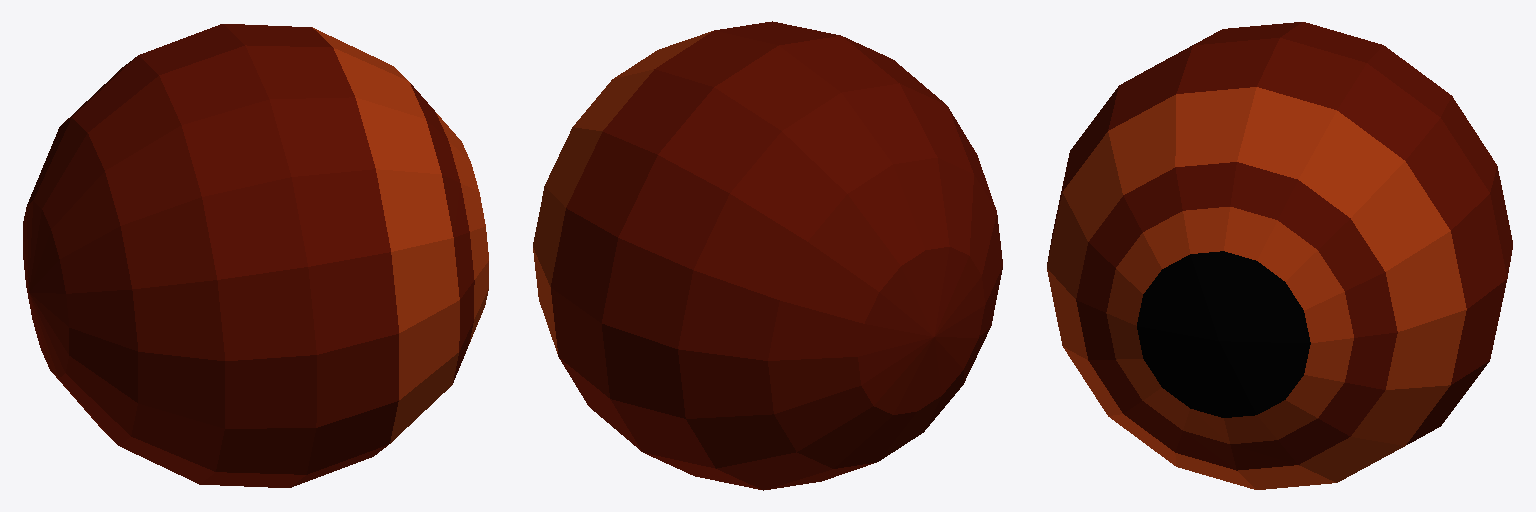
The model's file is carp_fish_eye.obj.
3 views of the same model, side by side, from view 1: azimuth 30°, elevation 25°; view 2: azimuth 150°, elevation 25°; view 3: azimuth 270°, elevation 25° (orthographic).
Visible parts, largest first — view 1: eye; view 2: eye; view 3: eye.
Boxes of the visible parts, box(x1,y1,x2,y2) form: eye: box(23, 24, 488, 487); eye: box(533, 21, 1002, 490); eye: box(1047, 22, 1512, 489).
Bounding box in the file's own units: 0.0178 × 0.018 × 0.0179.